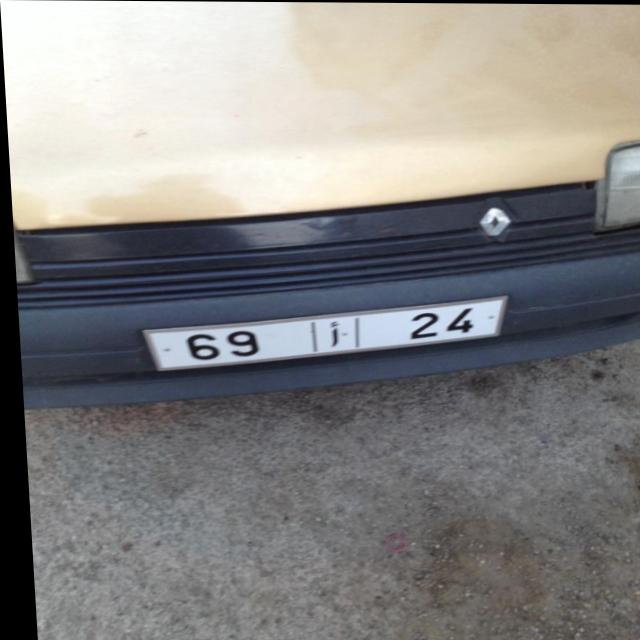License-Plate: (139, 295, 504, 371)
